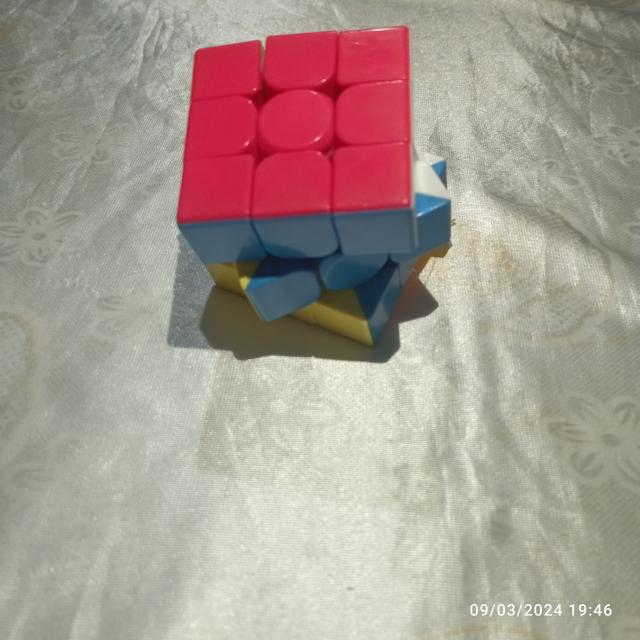Rub: (169, 19, 457, 350)
